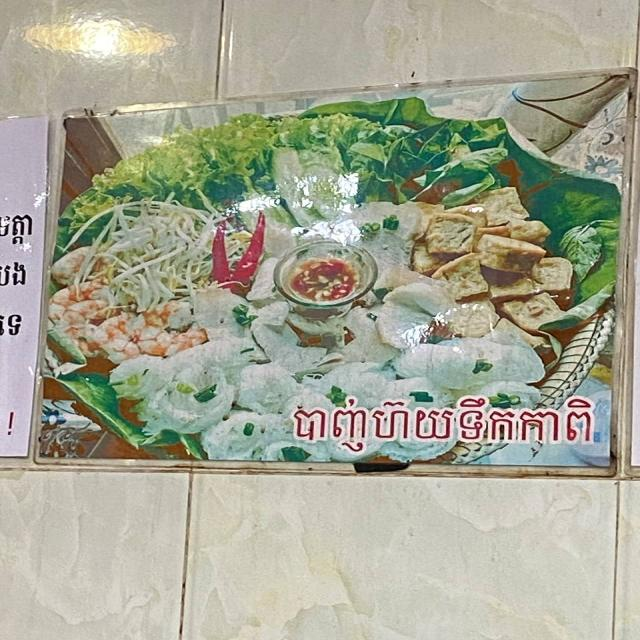Yolov11kh: (291, 384, 600, 456)
